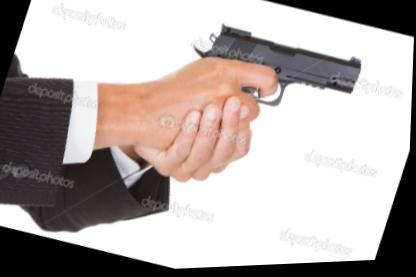pistol: (166, 13, 366, 181)
